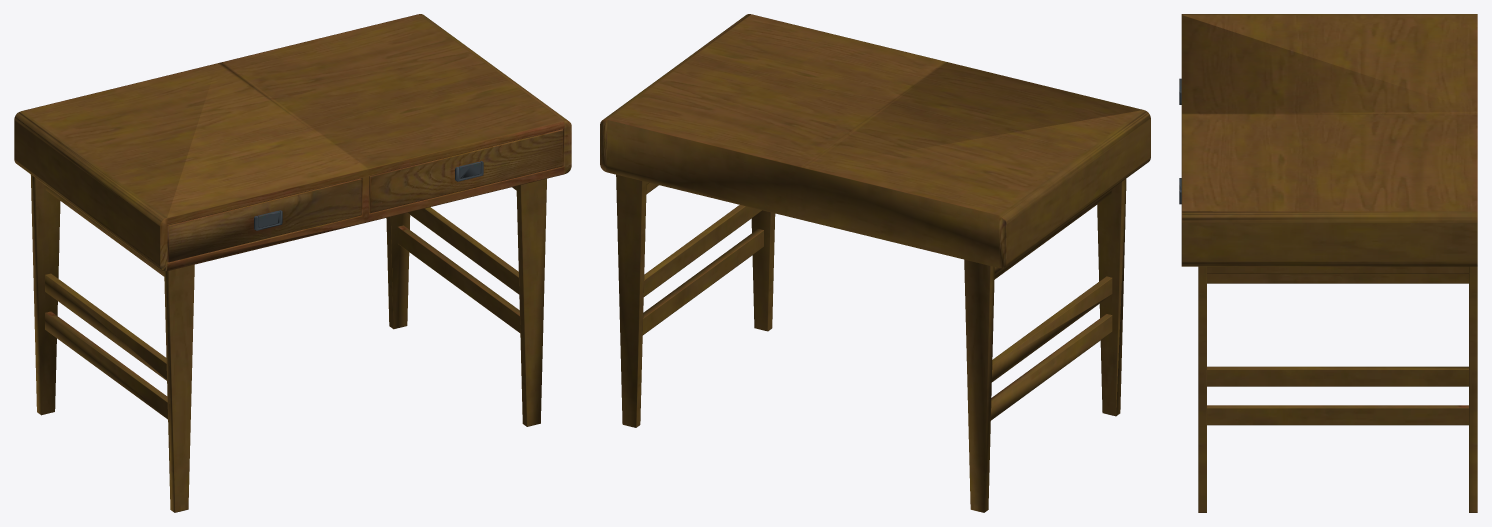
The model's file is B07QGFS4JC.glb.
3 views of the same model, side by side, from view 1: azimuth 30°, elevation 25°; view 2: azimuth 150°, elevation 25°; view 3: azimuth 270°, elevation 25° (orthographic). The views are drawn at different scales.
Visible parts, largest first — view 1: RootNode; view 2: RootNode; view 3: RootNode.
Boxes of the visible parts, x1=… form: RootNode: x1=14, y1=14, x2=571, y2=512; RootNode: x1=600, y1=14, x2=1150, y2=512; RootNode: x1=1179, y1=14, x2=1477, y2=512.
Bounding box in the file's own units: 1.07 × 0.7543 × 0.6604.
1 material, 1 textured.
